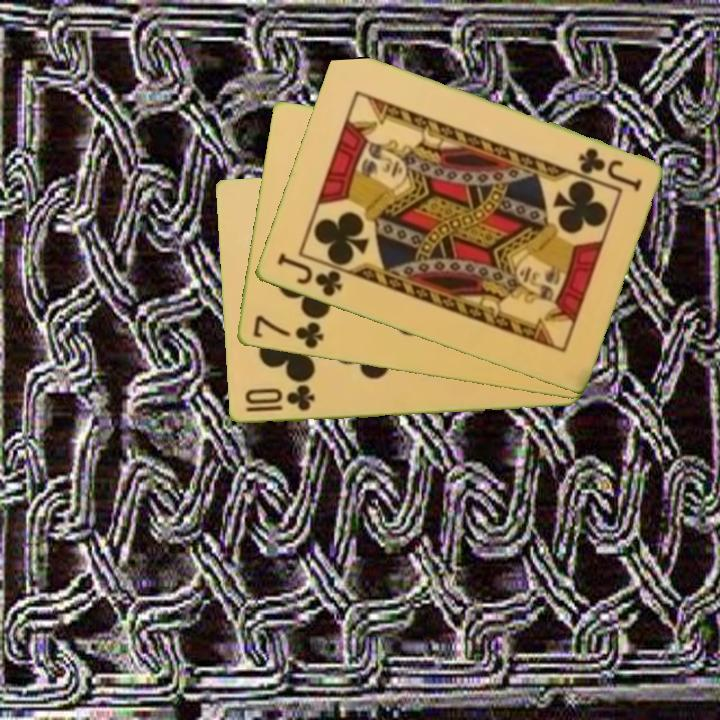10c: (240, 384, 318, 416)
7c: (249, 312, 326, 352)
Jc: (273, 249, 345, 300), (574, 144, 645, 194)
